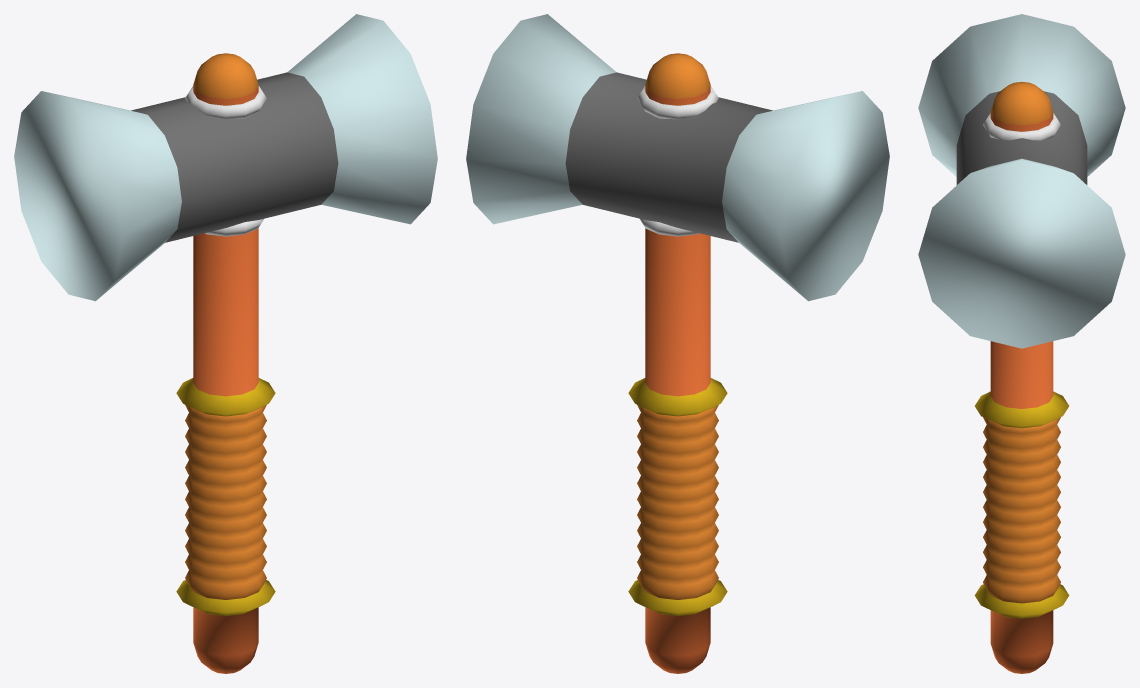
The model's file is JESPER HAMMER final 3.fbx.
3 views of the same model, side by side, from view 1: azimuth 30°, elevation 25°; view 2: azimuth 150°, elevation 25°; view 3: azimuth 270°, elevation 25° (orthographic). The views are drawn at different scales.
Visible parts, largest first — view 1: Cylinder.005, Torus.009, Torus.001; view 2: Cylinder.005, Torus.009, Torus.001; view 3: Cylinder.005, Torus.009, Torus.001.
Part boxes in pixels (left/top/right/bottom): Cylinder.005: left=14, top=14, right=437, bottom=301; Torus.009: left=176, top=53, right=275, bottom=673; Torus.001: left=185, top=86, right=266, bottom=119; Cylinder.005: left=466, top=14, right=889, bottom=301; Torus.009: left=628, top=53, right=727, bottom=673; Torus.001: left=637, top=86, right=718, bottom=119; Cylinder.005: left=918, top=14, right=1125, bottom=348; Torus.009: left=974, top=82, right=1069, bottom=673; Torus.001: left=983, top=113, right=1060, bottom=140.
Bounding box in the file's own units: 1109 × 2066 × 663.
